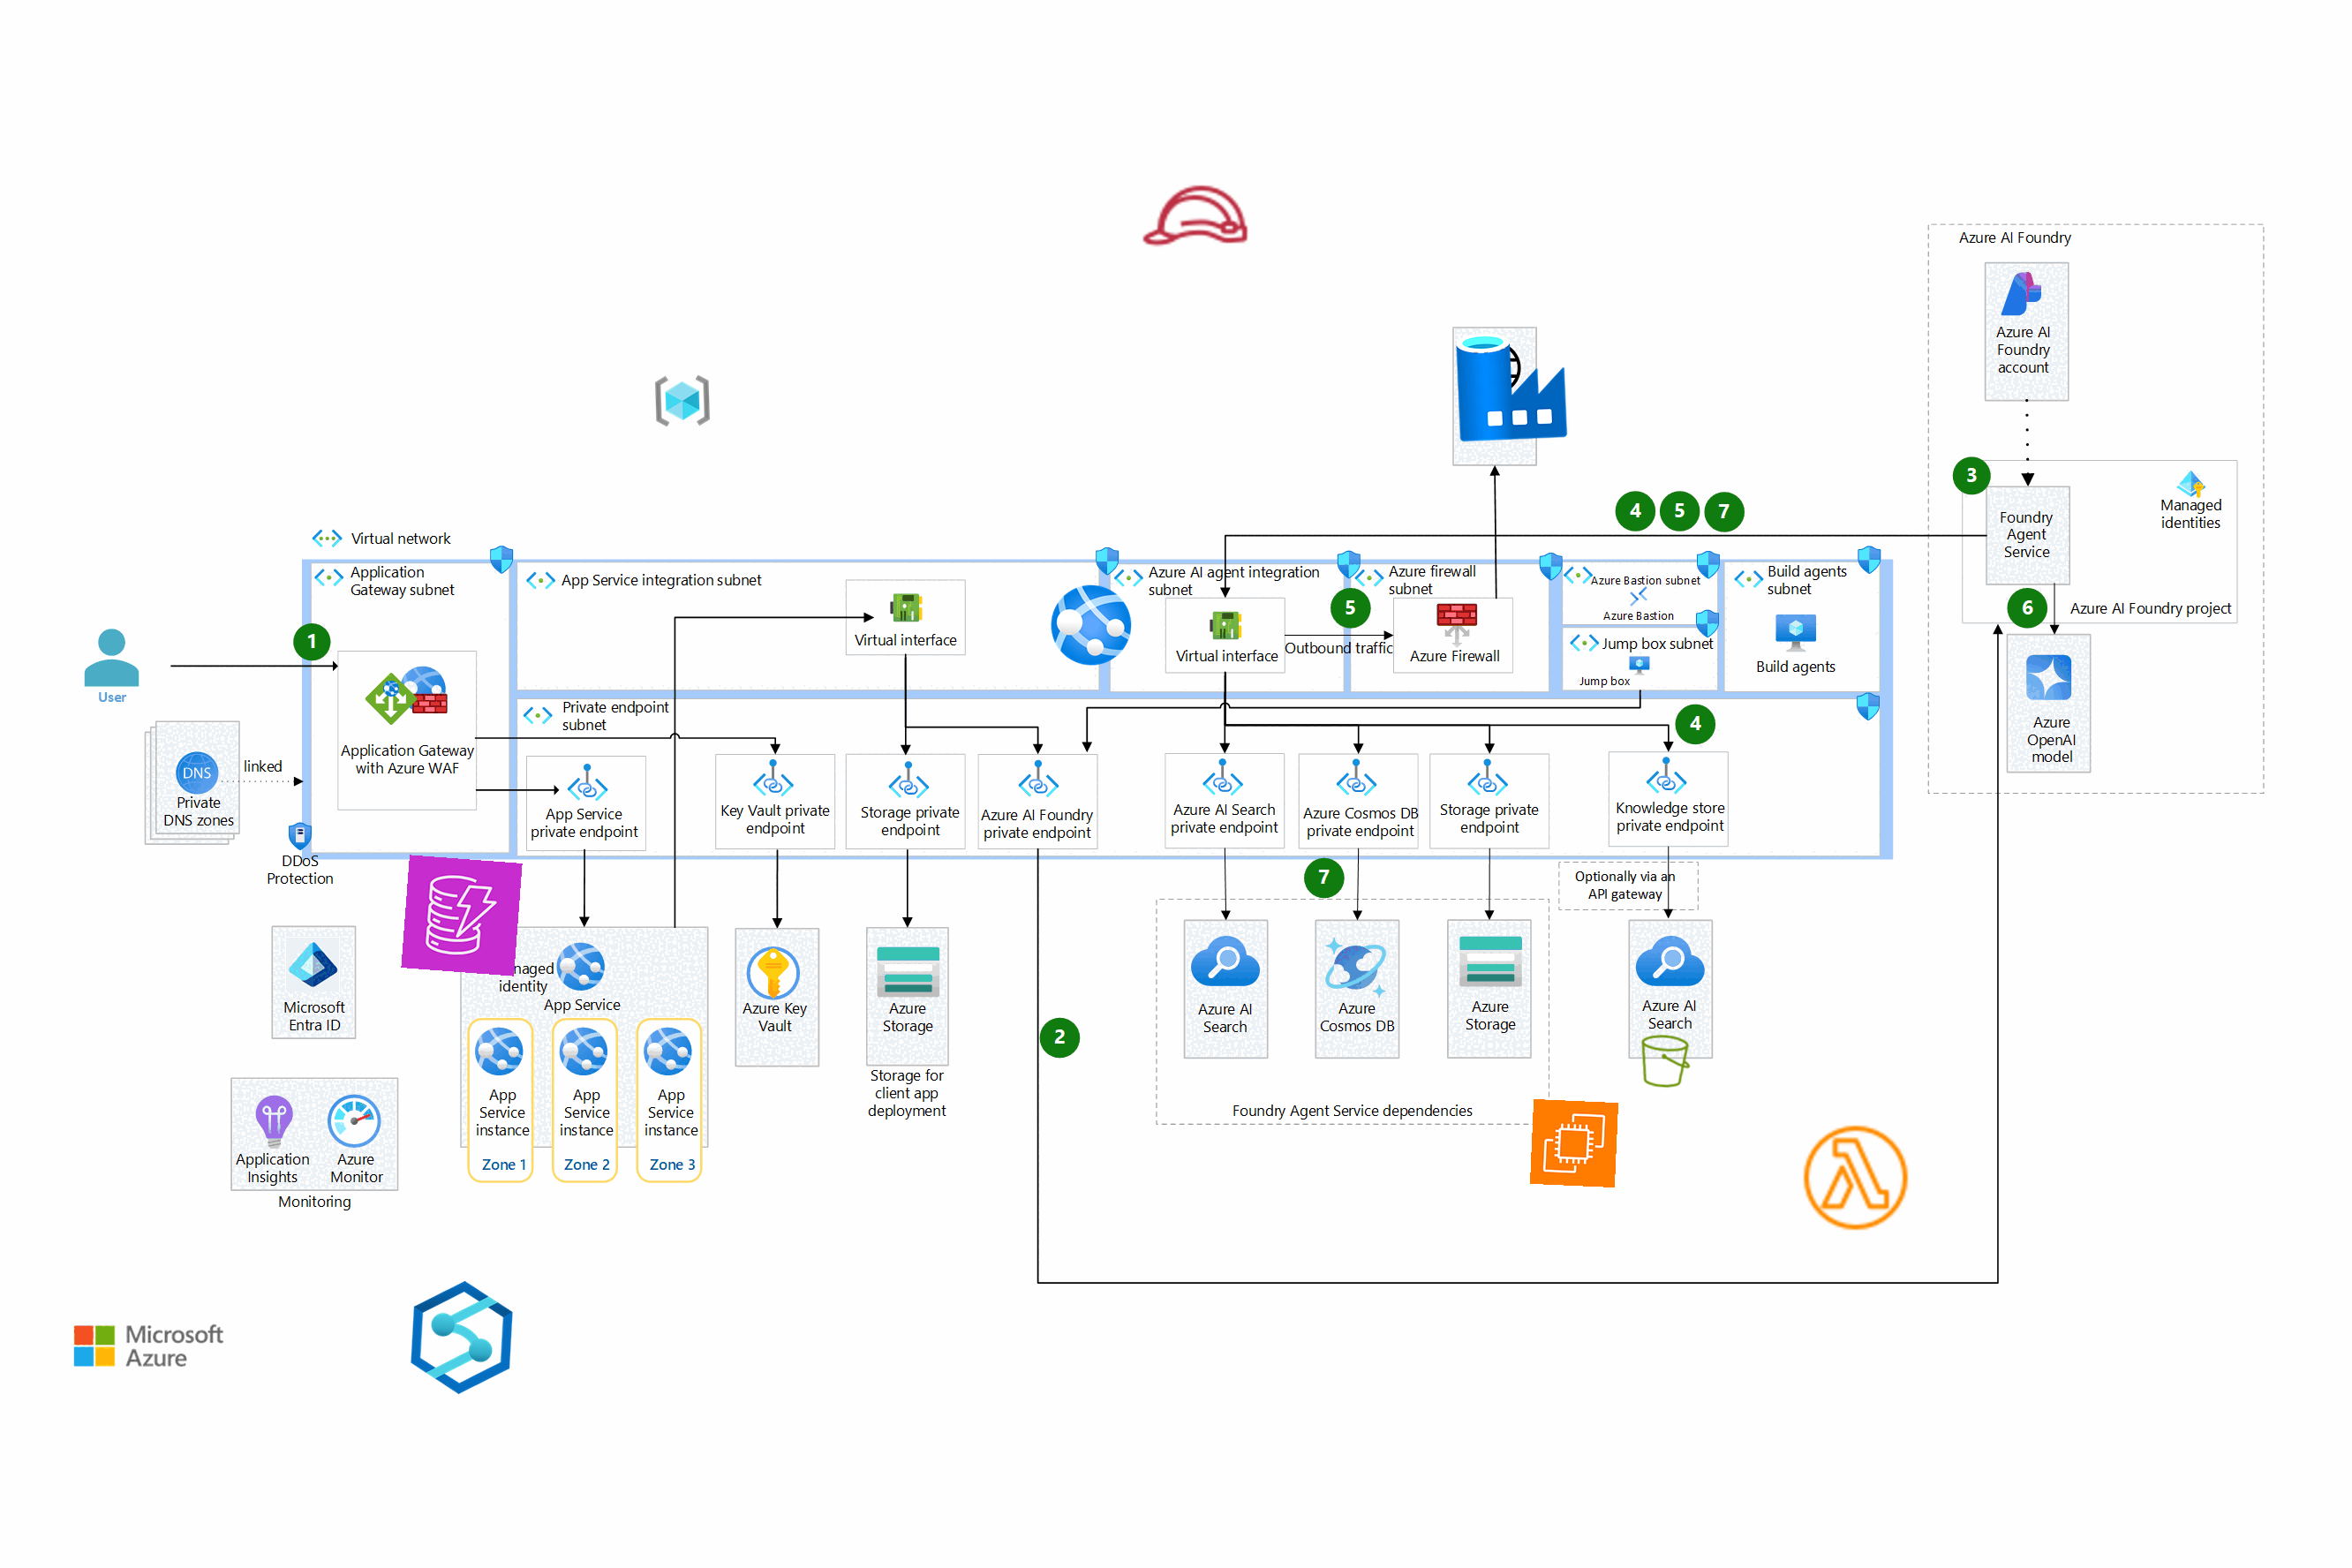aws_amazon_dynamodb: (401, 854, 523, 976)
aws_amazon_ec2: (1529, 1099, 1619, 1188)
aws_identity_access_management_role: (1137, 159, 1253, 273)
aws_lambda_lambda_function: (1799, 1120, 1913, 1235)
aws_simple_storage_service_bucket: (1634, 1031, 1696, 1092)
azure_app_services: (1046, 579, 1136, 670)
azure_data_factories: (1452, 327, 1571, 444)
azure_resource_groups: (653, 371, 712, 430)
azure_synapse_analytics: (402, 1277, 521, 1398)
